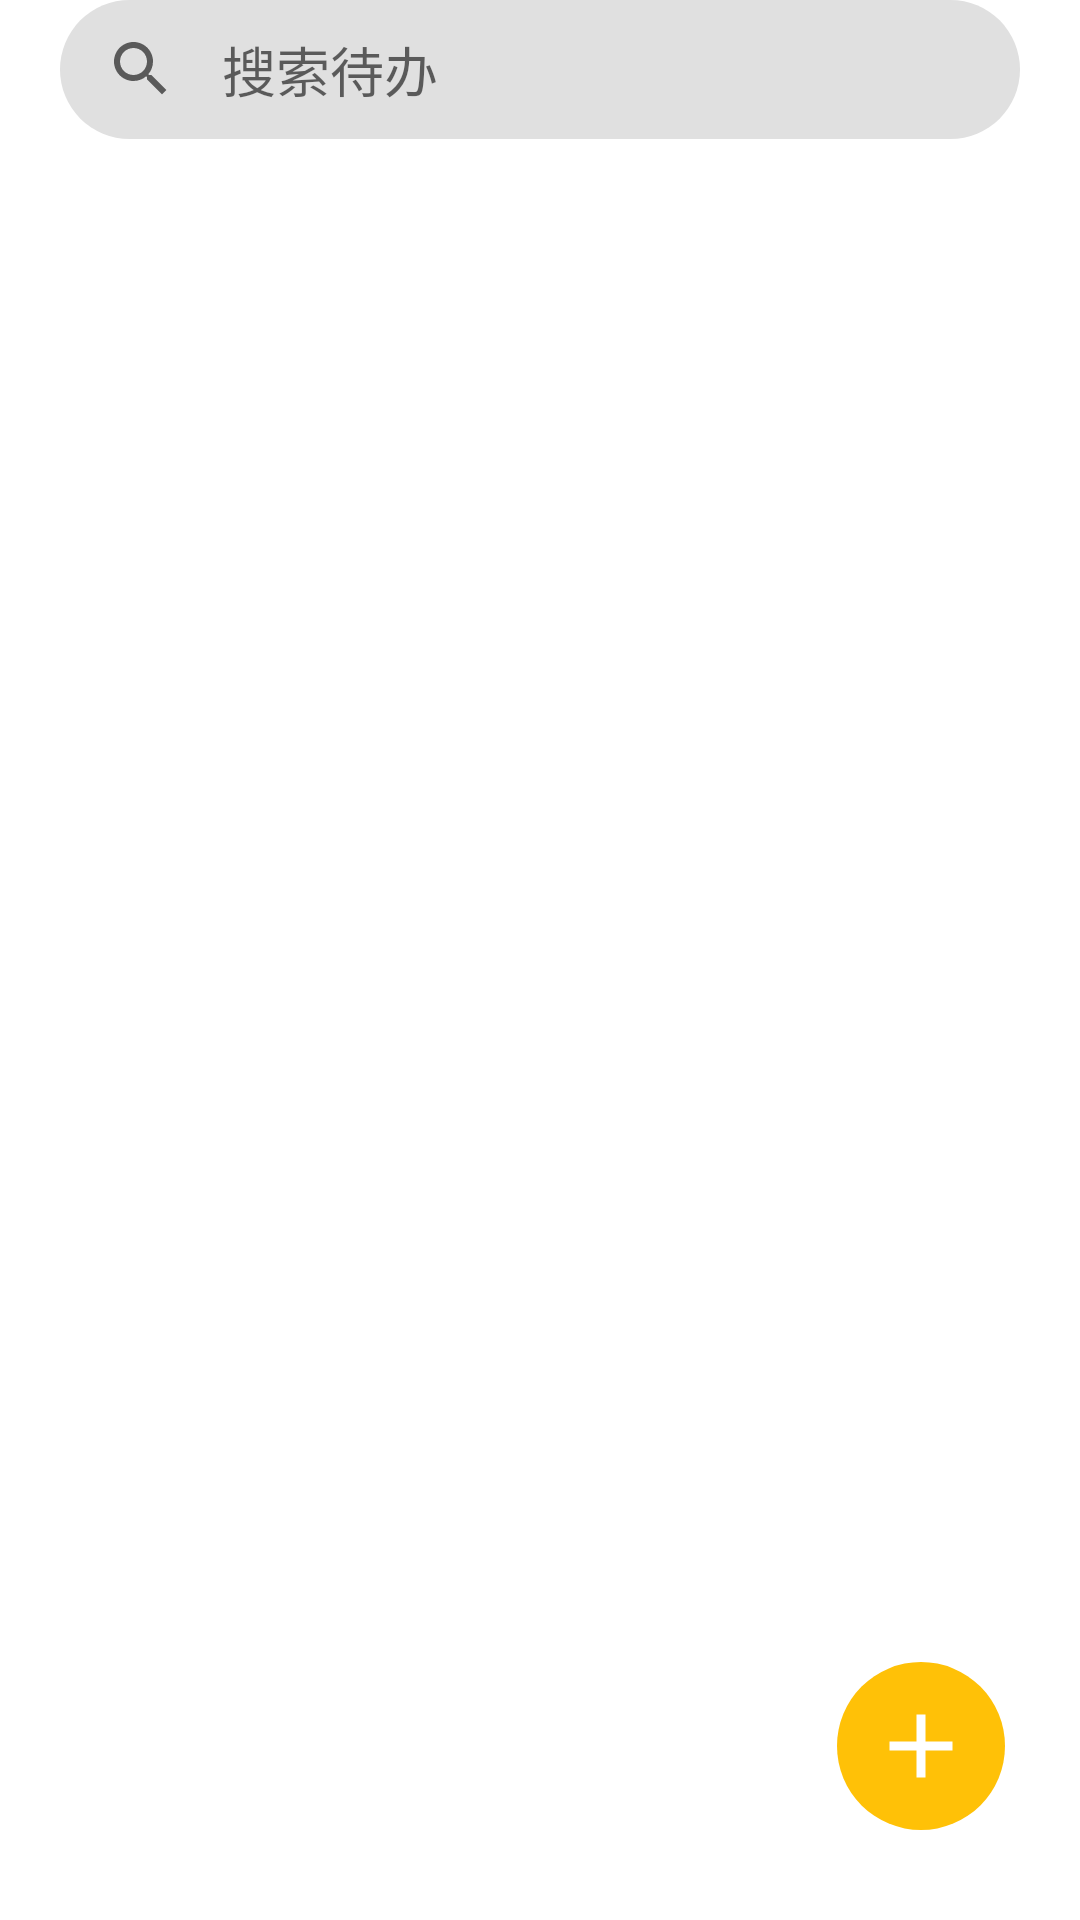

Icons on this 1080w x 1920h Android screen, each with its box as (x1, y1, x2, y2):
add: (837, 1662, 1005, 1830)
